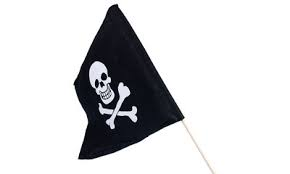Jolly Roger Flag: (70, 5, 187, 163)
